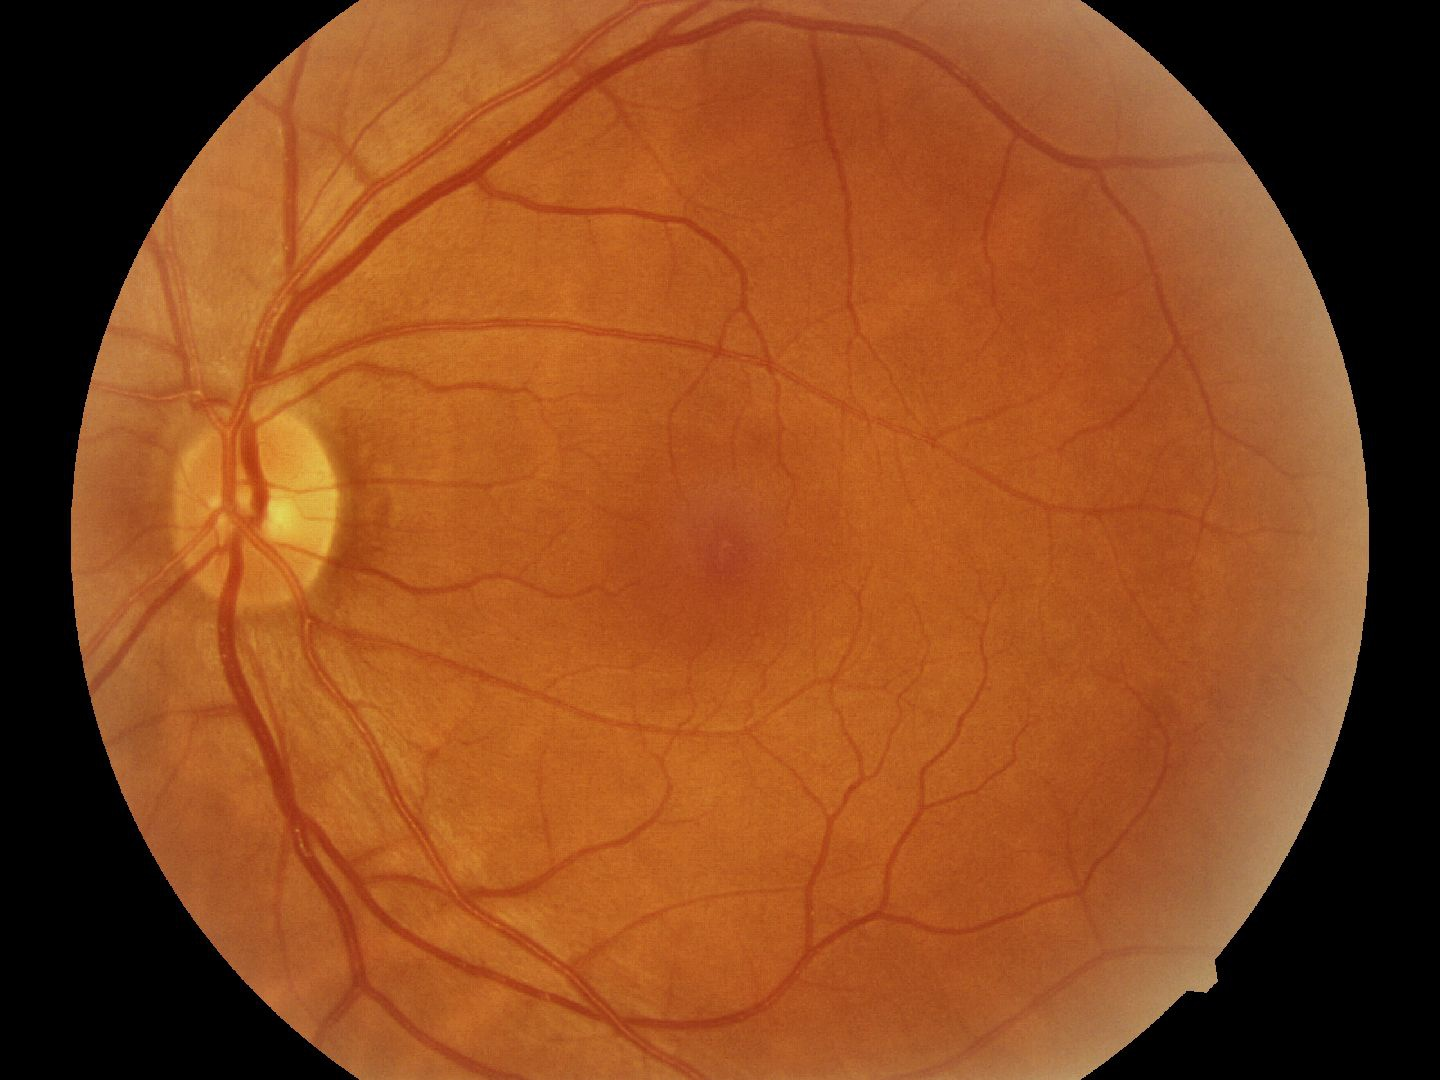Arterioles: (622, 710, 1040, 972)
Hemorrhages: (595, 457, 863, 639)
Optic-Disc: (173, 394, 345, 611)
Venules: (226, 652, 361, 974), (215, 157, 520, 241)
